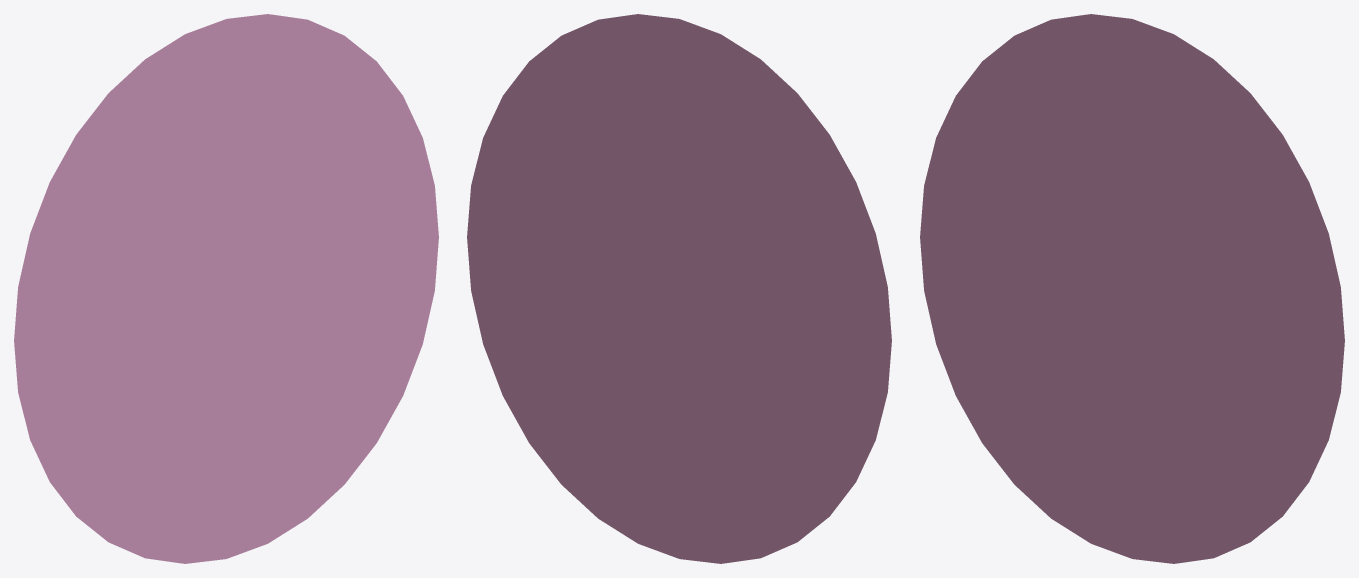
File: Rug.fbx
3 renders of one model, left to right at view 1: azimuth 30°, elevation 25°; view 2: azimuth 150°, elevation 25°; view 3: azimuth 330°, elevation 25°, orthographic.
Visible parts, largest first — view 1: alfombra; view 2: alfombra; view 3: alfombra.
Part boxes in pixels (<box>): alfombra: <box>14,14,438,563</box>; alfombra: <box>467,14,891,563</box>; alfombra: <box>920,14,1344,563</box>.
Size of the model in its own units: 6.04 by 7.33 by 1.52e-06.
